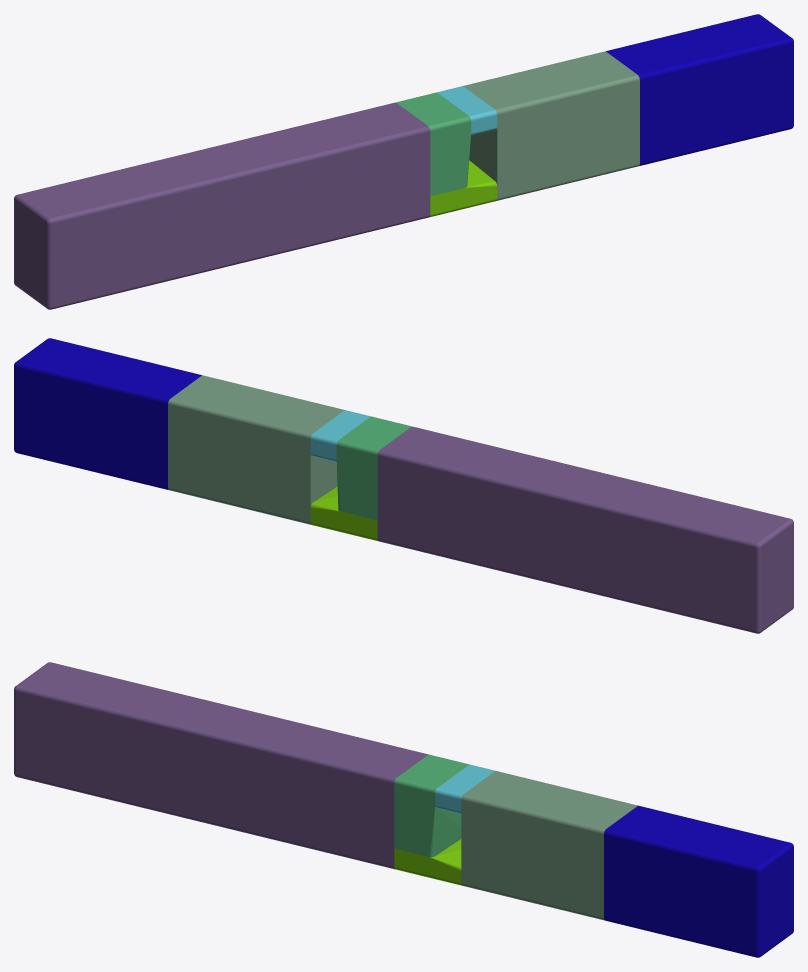
Rendered from 6_canonical.obj.
3 renders of one model, top to bottom at view 1: azimuth 30°, elevation 25°; view 2: azimuth 150°, elevation 25°; view 3: azimuth 330°, elevation 25°, orthographic.
Parts seen in each view (by area): view 1: geometry_1, geometry_5, geometry_0, geometry_3, geometry_4, geometry_2; view 2: geometry_1, geometry_5, geometry_0, geometry_3, geometry_4, geometry_2; view 3: geometry_1, geometry_5, geometry_0, geometry_3, geometry_4, geometry_2.
Part boxes in pixels (bbox=[...]): geometry_1: bbox=[14, 102, 430, 309]; geometry_5: bbox=[606, 14, 793, 165]; geometry_0: bbox=[462, 51, 639, 200]; geometry_3: bbox=[396, 92, 471, 196]; geometry_4: bbox=[430, 160, 497, 216]; geometry_2: bbox=[436, 86, 497, 135]; geometry_1: bbox=[377, 426, 793, 633]; geometry_5: bbox=[14, 338, 201, 489]; geometry_0: bbox=[168, 375, 345, 524]; geometry_3: bbox=[336, 416, 411, 520]; geometry_4: bbox=[310, 486, 377, 540]; geometry_2: bbox=[310, 410, 371, 461]; geometry_1: bbox=[14, 662, 428, 869]; geometry_5: bbox=[604, 805, 793, 957]; geometry_0: bbox=[461, 771, 637, 920]; geometry_3: bbox=[394, 754, 469, 857]; geometry_4: bbox=[394, 839, 461, 885]; geometry_2: bbox=[435, 764, 495, 813].
Bounding box in the file's own units: 0.1524 × 0.0178 × 0.0127.
